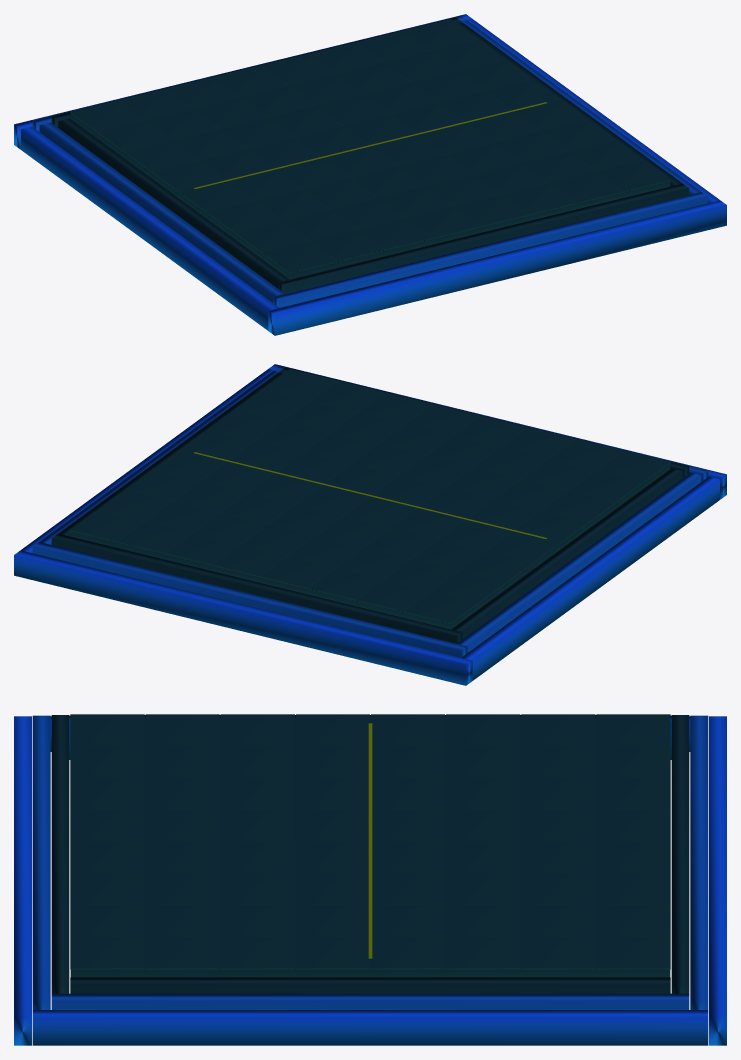
The model's file is island_plinth_16m.glb.
3 views of the same model, one above another, from view 1: azimuth 30°, elevation 25°; view 2: azimuth 150°, elevation 25°; view 3: azimuth 270°, elevation 25° (orthographic). The views are drawn at different scales.
Visible parts, largest first — view 1: island_plinth_16m; view 2: island_plinth_16m; view 3: island_plinth_16m.
Part boxes in pixels (left/top/right/bottom): island_plinth_16m: left=14, top=14, right=726, bottom=335; island_plinth_16m: left=14, top=364, right=726, bottom=685; island_plinth_16m: left=14, top=714, right=726, bottom=1045.
Size of what is drawn, in the model's own units: 18.97 by 1.59 by 18.97.
